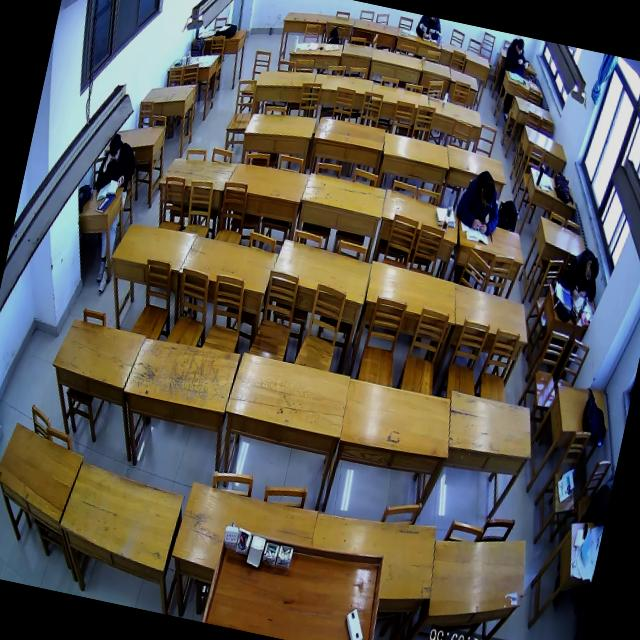down: (475, 178, 498, 215), (581, 252, 603, 283), (104, 132, 125, 164), (512, 36, 526, 58)
sit: (453, 165, 509, 237), (92, 130, 141, 199), (556, 242, 606, 304), (502, 34, 534, 76)
